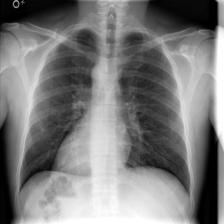normal: (14, 22, 196, 199)
